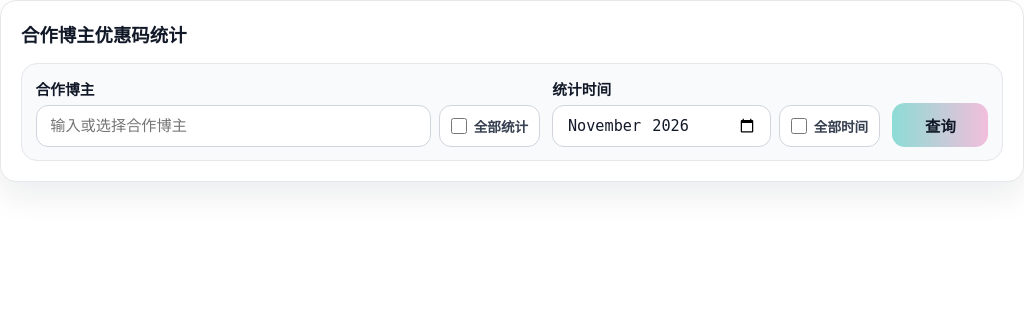
Test: PromotionCampaignReportCard › supports keyboard selection and closing
Focus the dropdown labelled "合作博主" at (233, 126), box [36,105,431,147]
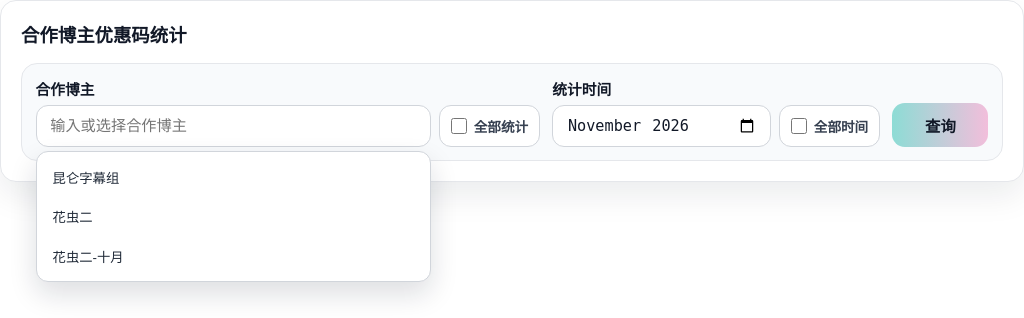
expect the option "昆仑字幕组" is shown: met, box [41,157,425,197]
Press ArrowDown in the dropdown labelled "合作博主", box [36,105,431,147]
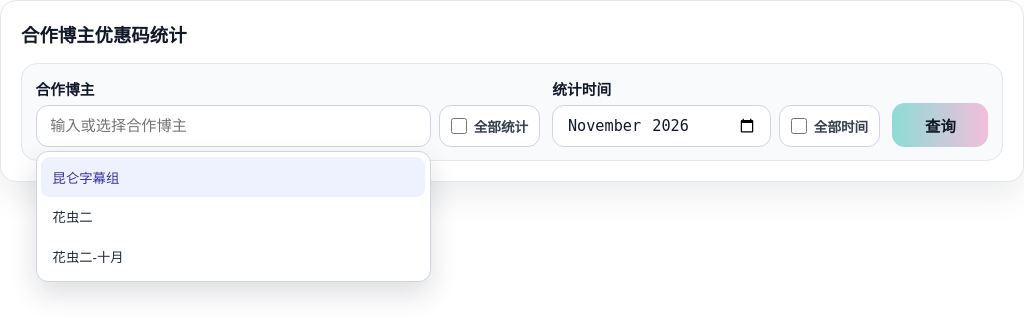
Press ArrowDown in the dropdown labelled "合作博主", box [36,105,431,147]
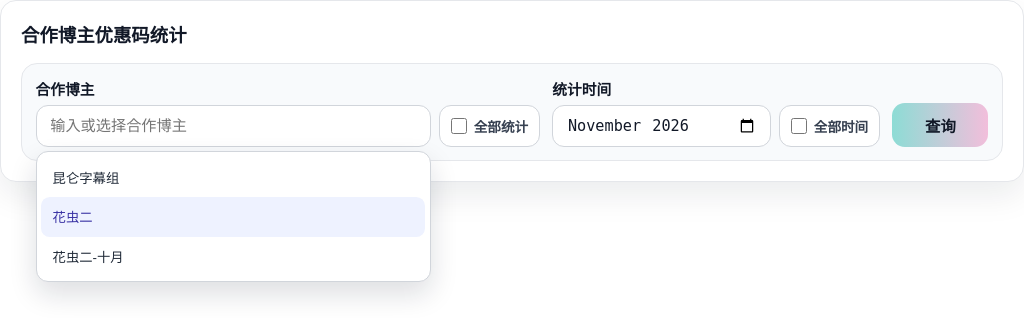
Press Enter in the dropdown labelled "合作博主", box [36,105,431,147]
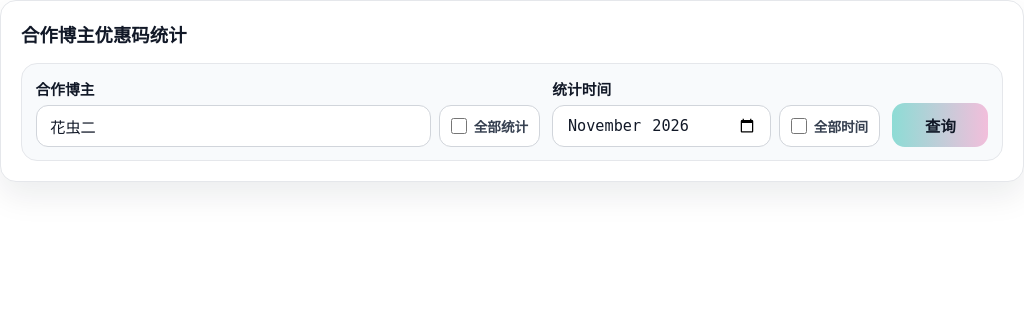
expect the dropdown named "合作博主" holds "花虫二": met
Focus the dropdown named "合作博主" at (233, 126), box [36,105,431,147]
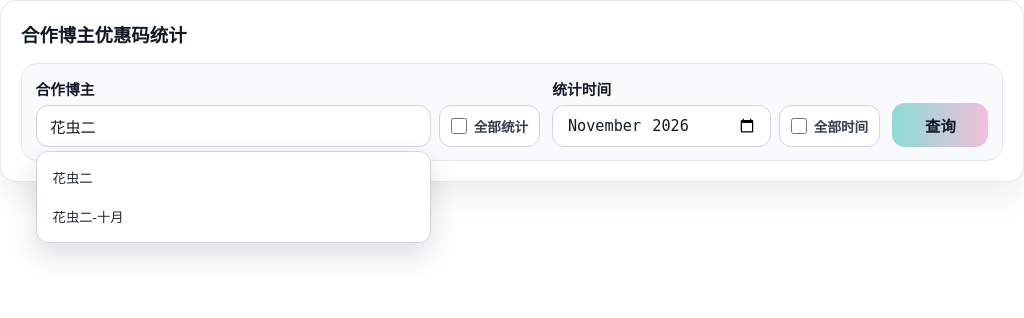
Press Escape in the dropdown named "合作博主", box [36,105,431,147]
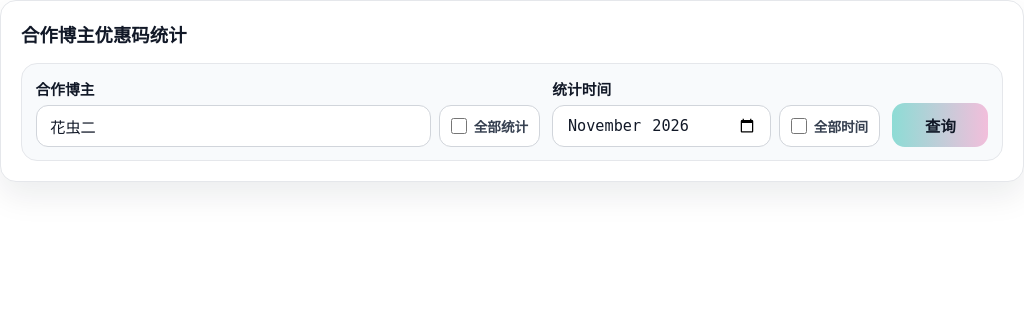
expect the list is gone: met
